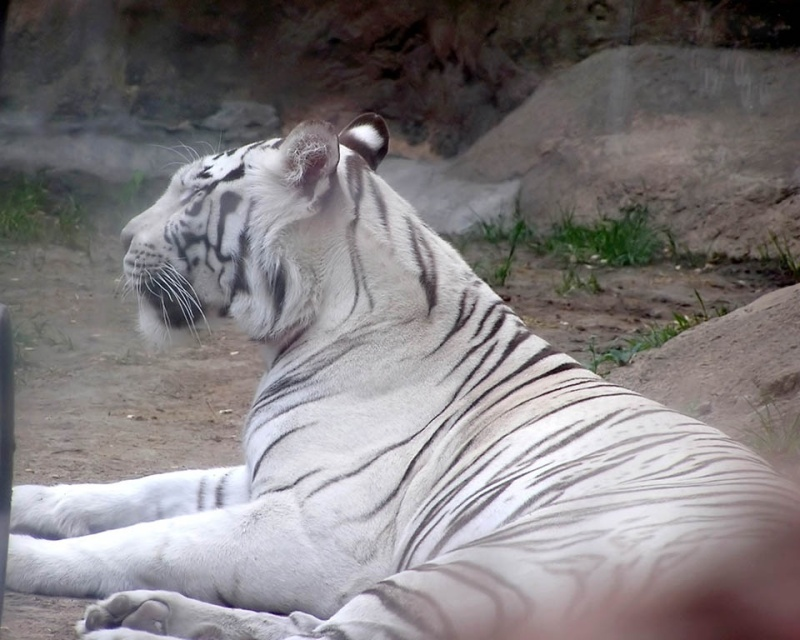tigre: (26, 114, 790, 637)
